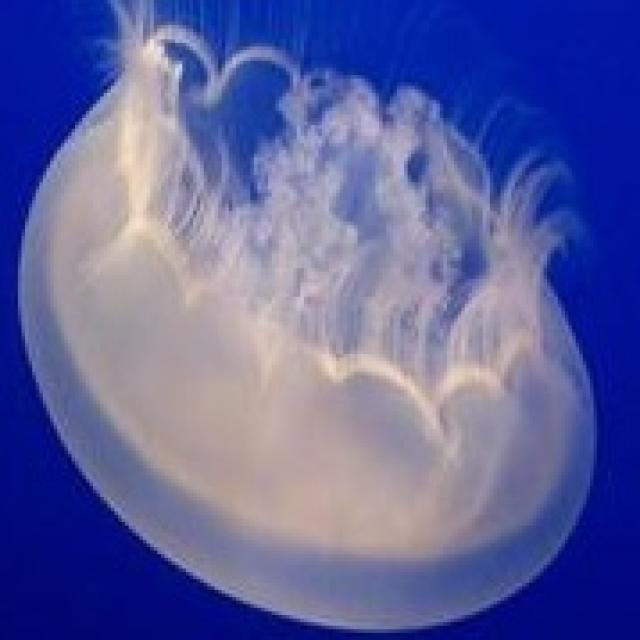Moon-jellyfish: (14, 0, 597, 633)
